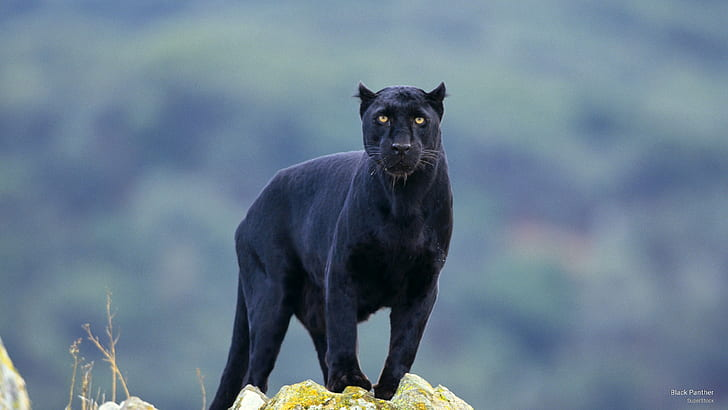panther: (346, 76, 463, 193)
